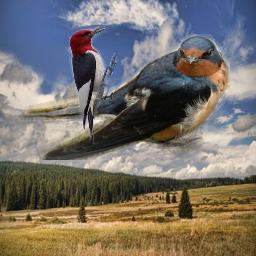Swallow: (3, 34, 230, 160)
Woodpecker: (69, 26, 117, 142)
